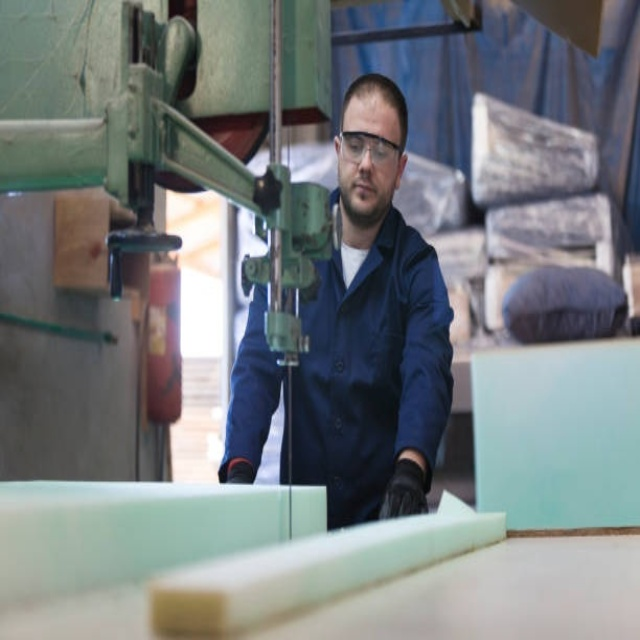Gafas: (338, 131, 403, 167)
Guantes: (376, 458, 430, 521)
Sin_mascara: (347, 173, 380, 210)
